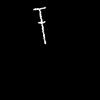double_crochet: (34, 7, 45, 43)
